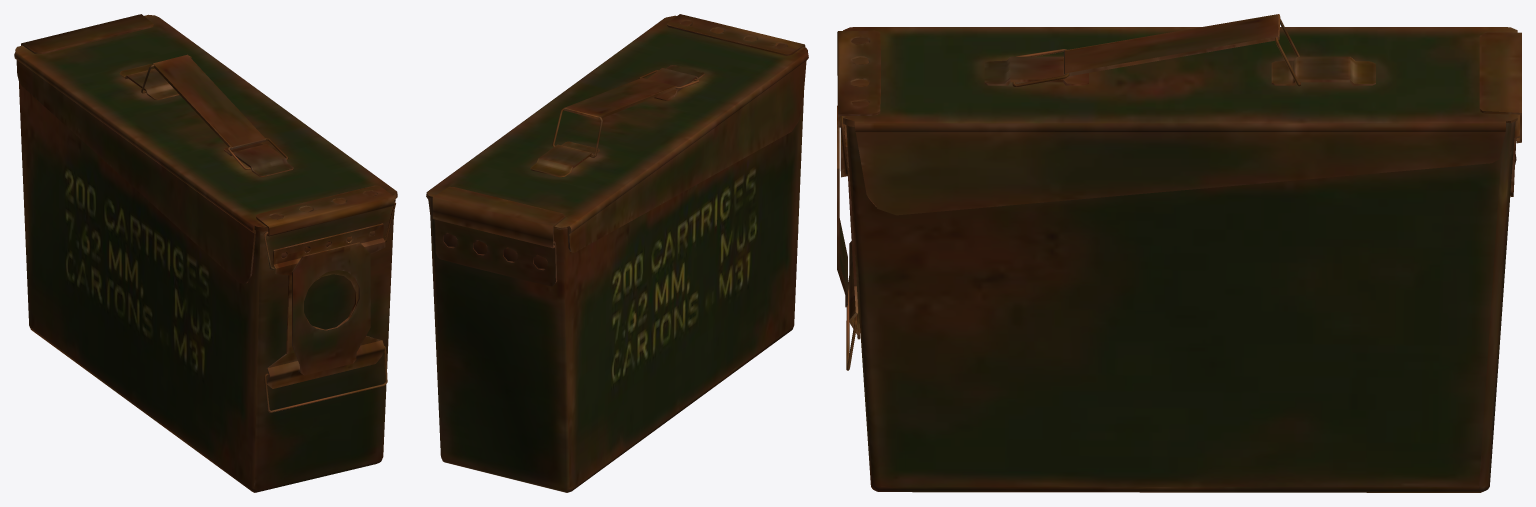
Rendered from ammo_box.glb.
The picture shows the model from 3 angles, left to right: view 1: azimuth 30°, elevation 25°; view 2: azimuth 150°, elevation 25°; view 3: azimuth 270°, elevation 25°; orthographic projection. The views are drawn at different scales.
Parts seen in each view (by area): view 1: ammo_box_handle_ring_b; view 2: ammo_box_handle_ring_b; view 3: ammo_box_handle_ring_b.
Boxes of the visible parts, x1=… form: ammo_box_handle_ring_b: x1=14, y1=14, x2=397, y2=492; ammo_box_handle_ring_b: x1=426, y1=14, x2=808, y2=492; ammo_box_handle_ring_b: x1=837, y1=14, x2=1521, y2=492.
Bounding box in the file's own units: 0.0864 × 0.1773 × 0.2576.
Materials: 1 (1 with a texture image).
